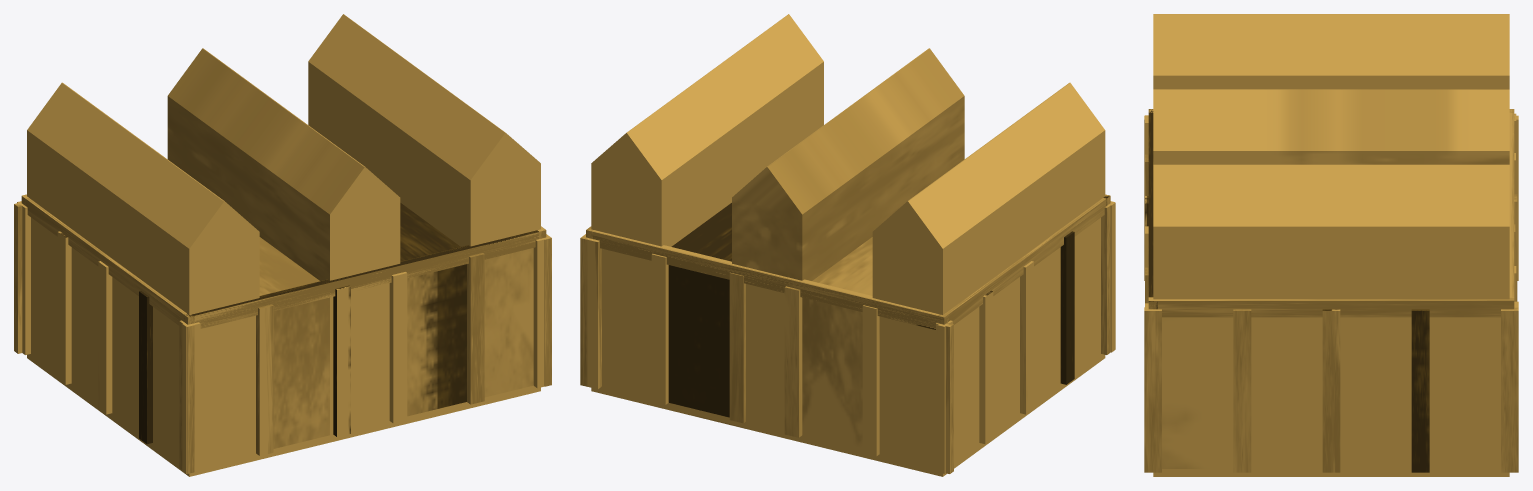
Rendered from House2.obj.
3 views of the same model, side by side, from view 1: azimuth 30°, elevation 25°; view 2: azimuth 150°, elevation 25°; view 3: azimuth 270°, elevation 25° (orthographic). The views are drawn at different scales.
Parts seen in each view (by area): view 1: 左建物上; view 2: 左建物上; view 3: 左建物上.
Boxes of the visible parts, x1,y1,x2,y2 form: 左建物上: (14, 14, 551, 476); 左建物上: (580, 14, 1115, 476); 左建物上: (1144, 14, 1518, 476).
Size of the model in its own units: 52.42 by 36.29 by 42.
